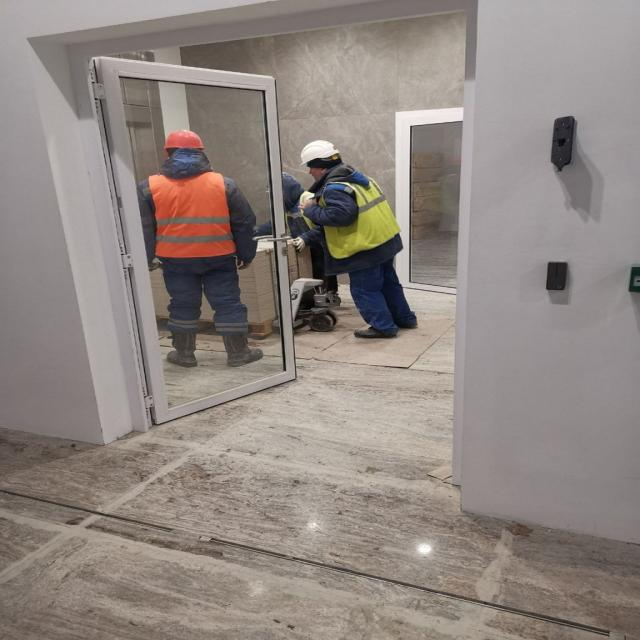Helmet: (299, 140, 344, 168), (164, 130, 207, 152)
Jacket: (155, 167, 230, 259), (322, 169, 390, 261)
